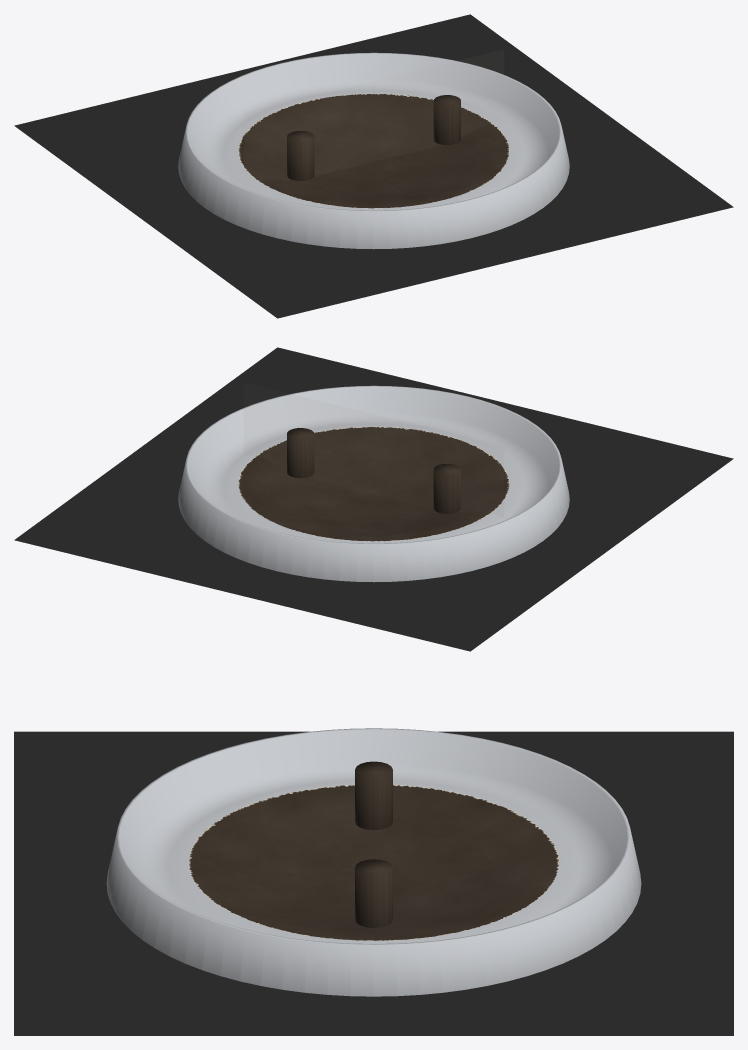
Rendered from posts.glb.
3 renders of one model, top to bottom at view 1: azimuth 30°, elevation 25°; view 2: azimuth 150°, elevation 25°; view 3: azimuth 270°, elevation 25°, orthographic. The views are drawn at different scales.
Parts seen in each view (by area): view 1: stadium_posts, shadow_catcher_posts; view 2: stadium_posts, shadow_catcher_posts; view 3: stadium_posts, shadow_catcher_posts.
Boxes of the visible parts, x1,y1,x2,y2 form: stadium_posts: [178, 52, 569, 249]; shadow_catcher_posts: [14, 14, 733, 318]; stadium_posts: [178, 385, 569, 582]; shadow_catcher_posts: [14, 347, 733, 651]; stadium_posts: [106, 728, 641, 996]; shadow_catcher_posts: [14, 731, 733, 1035].
Bounding box in the file's own units: 420 × 75.05 × 420.
Materials: 4 (1 with a texture image).
